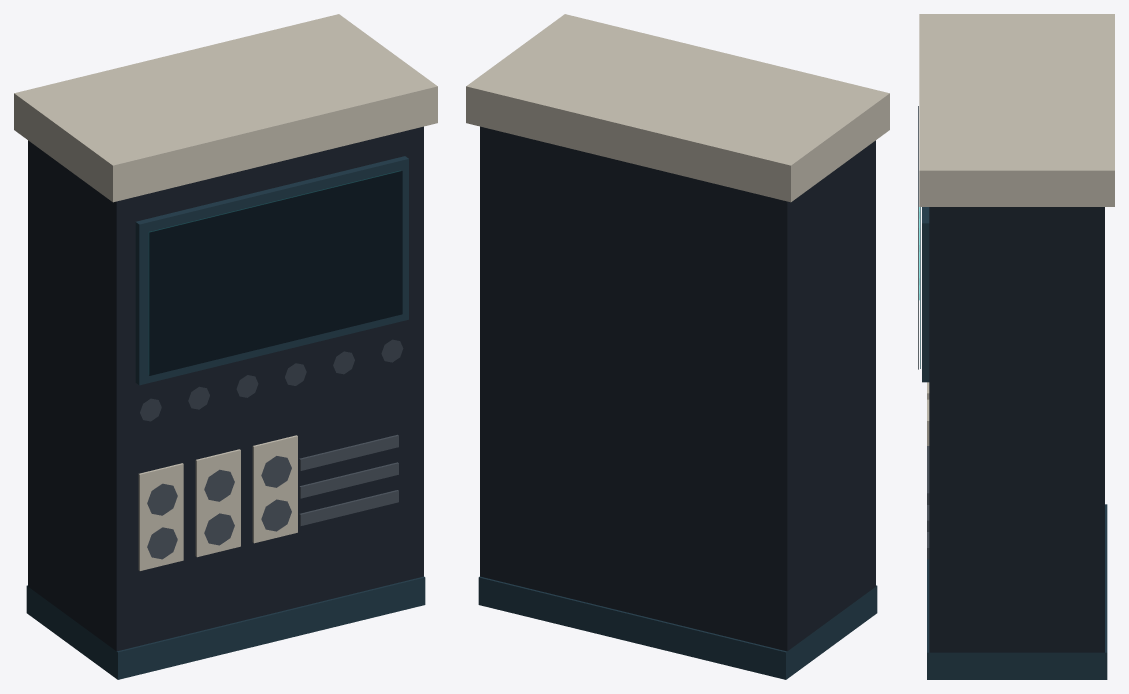
The model's file is computador_grande.glb.
The picture shows the model from 3 angles, left to right: view 1: azimuth 30°, elevation 25°; view 2: azimuth 150°, elevation 25°; view 3: azimuth 270°, elevation 25°; orthographic projection.
Visible parts, largest first — view 1: computador_grande_malha, luzes_apagadas_malha; view 2: computador_grande_malha; view 3: computador_grande_malha.
Part boxes in pixels (x1=…): computador_grande_malha: x1=14, y1=14, x2=437, y2=679; luzes_apagadas_malha: x1=140, y1=171, x2=403, y2=421; computador_grande_malha: x1=466, y1=14, x2=889, y2=679; computador_grande_malha: x1=919, y1=14, x2=1114, y2=679.
Bounding box in the file's own units: 1.48 × 2.26 × 0.785.
